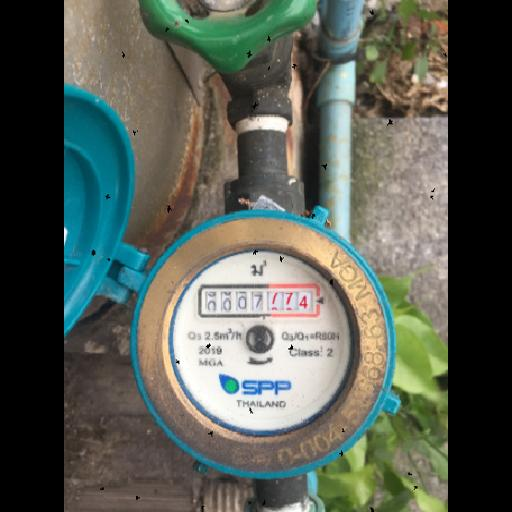0: (236, 292, 247, 312), (206, 293, 217, 312), (222, 292, 232, 312)
4: (298, 293, 310, 312)
7: (269, 292, 280, 312), (284, 293, 295, 312), (252, 292, 262, 312)
border_water_meter_number: (198, 284, 321, 318)
